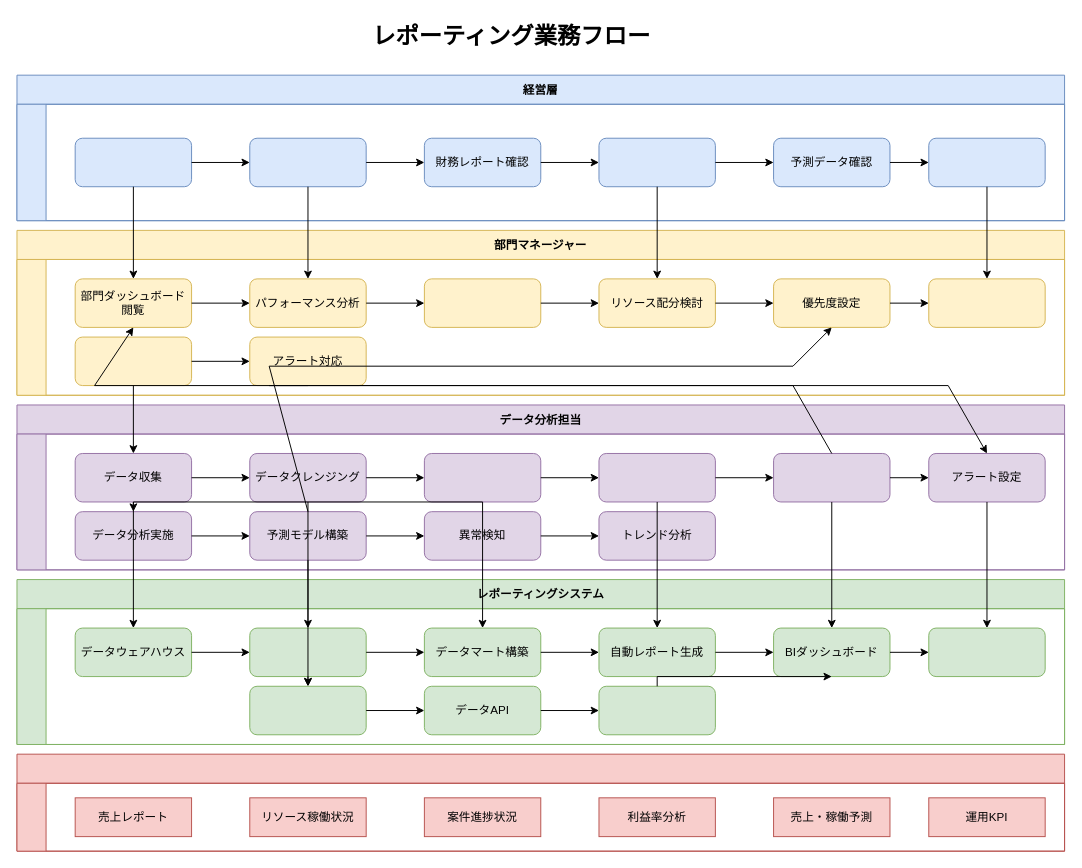
The diagram is 1082 pixels wide and 868 high, and some of its shapes have lost their labels. The box of each missing label's shape, as (x1, y1, x2, y2) in pixels:
ETL処理: (249, 627, 366, 677)
KPI確認: (249, 137, 366, 187)
アラートシステム: (928, 627, 1045, 677)
カスタムレポート作成: (74, 336, 192, 386)
ダッシュボード設定: (773, 453, 890, 502)
ダッシュボード閲覧: (74, 137, 192, 187)
チーム指標確認: (423, 278, 541, 327)
データ統合: (423, 453, 541, 502)
リソース状況確認: (598, 137, 715, 187)
レポート作成: (598, 453, 715, 502)
レポート種類: (16, 753, 1065, 851)
可視化エンジン: (598, 685, 715, 735)
機械学習エンジン: (249, 685, 366, 735)
経営判断: (928, 137, 1045, 187)
運用計画策定: (928, 278, 1045, 327)
